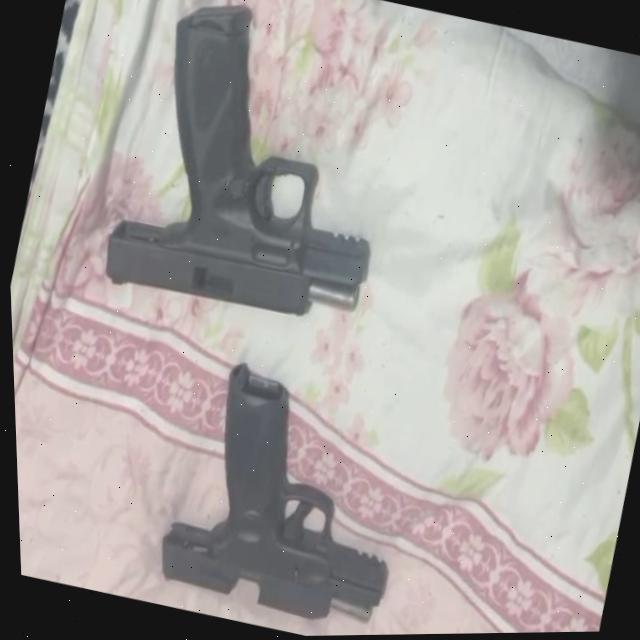gun: (86, 0, 422, 343), (141, 344, 426, 636)
